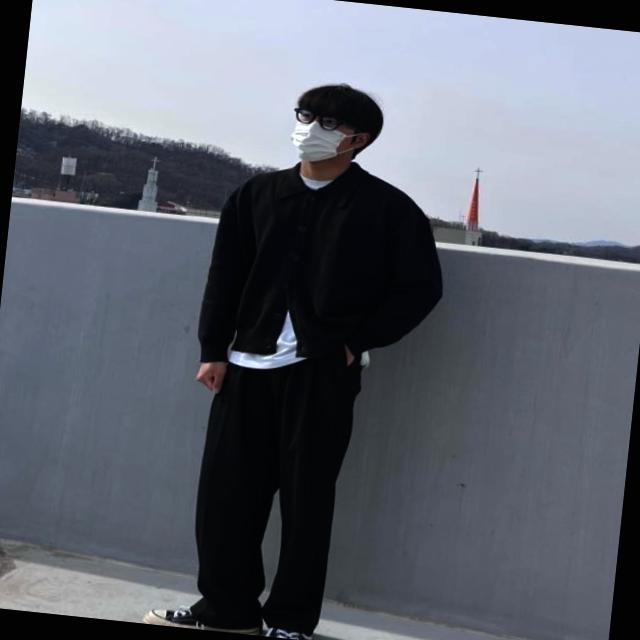cardigan: (192, 146, 452, 390)
slacks: (182, 344, 360, 634)
